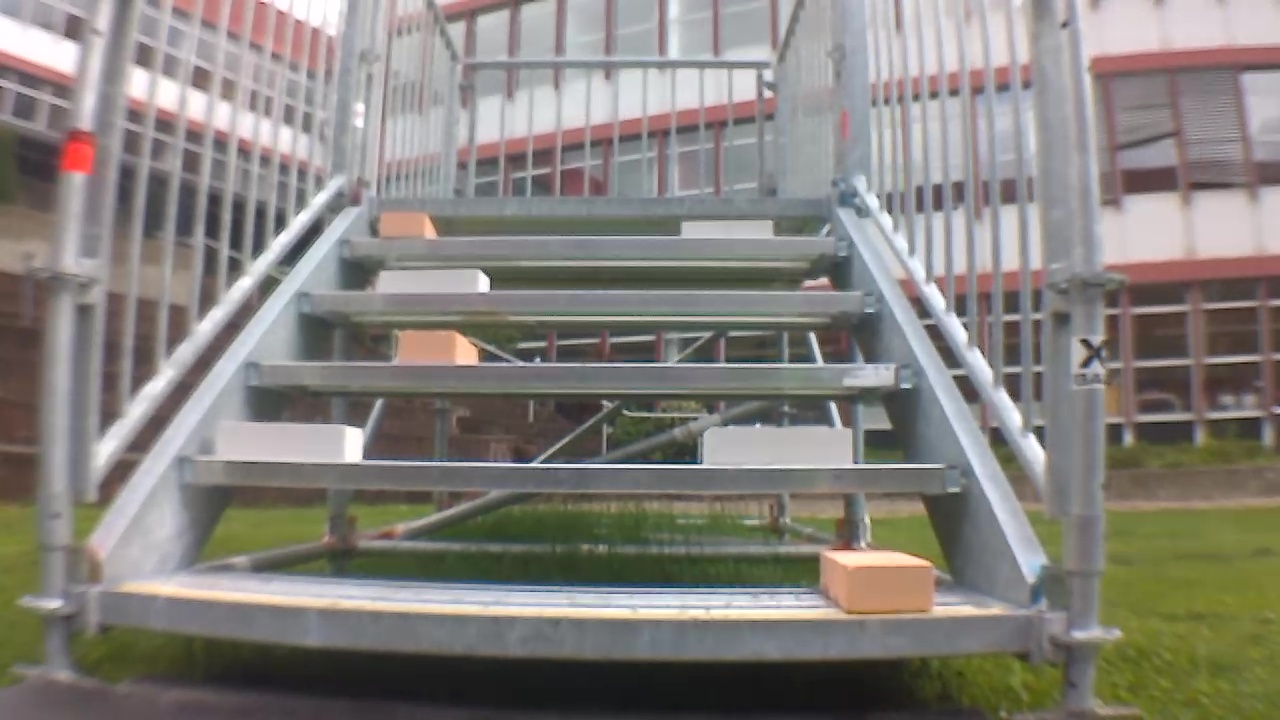brick: (819, 551, 933, 613), (216, 423, 363, 462), (703, 428, 851, 464), (399, 331, 477, 364), (380, 269, 490, 292), (681, 221, 771, 237), (380, 212, 436, 237)
edge: (100, 590, 1026, 660), (181, 457, 962, 492), (247, 362, 914, 386), (295, 291, 883, 312), (340, 237, 848, 256), (376, 196, 831, 216)
stairs: (18, 3, 1117, 711)
steps: (94, 188, 1040, 664)
